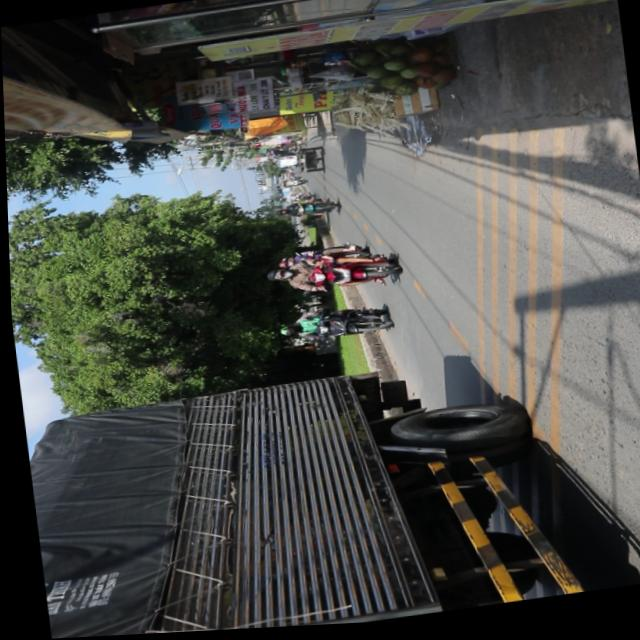helmet: (260, 272, 290, 287), (274, 327, 296, 341)
licenseplate: (259, 251, 400, 304), (272, 306, 390, 351)
